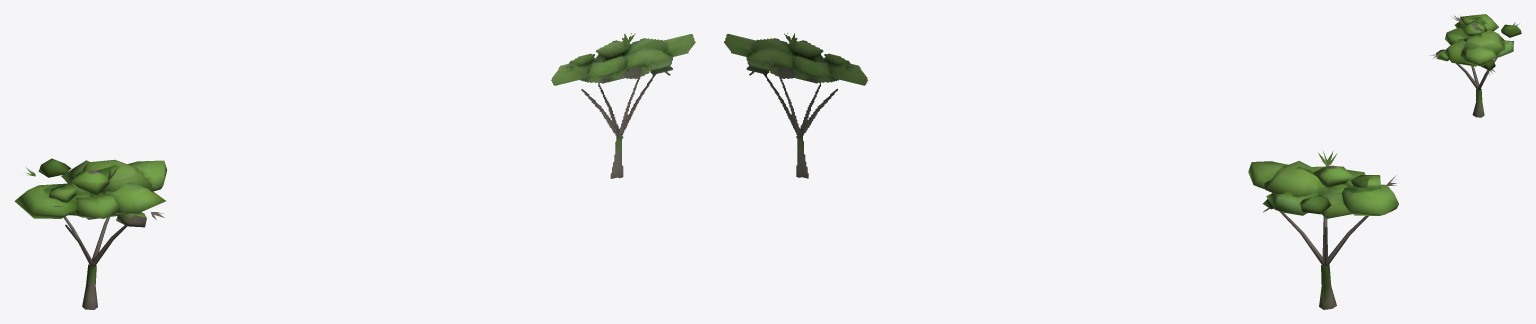
Rendered from tree_gulmohar_green.glb.
3 views of the same model, side by side, from view 1: azimuth 30°, elevation 25°; view 2: azimuth 150°, elevation 25°; view 3: azimuth 270°, elevation 25° (orthographic). The views are drawn at different scales.
Visible parts, largest first — view 1: tree_gulmohar_green_LOD0, tree_gulmohar_green_IMPOSTOR; view 2: tree_gulmohar_green_LOD0, tree_gulmohar_green_IMPOSTOR; view 3: tree_gulmohar_green_LOD0.
Boxes of the visible parts, x1,y1,x2,y2 form: tree_gulmohar_green_LOD0: (14, 158, 166, 309); tree_gulmohar_green_IMPOSTOR: (551, 33, 695, 178); tree_gulmohar_green_LOD0: (1248, 151, 1398, 309); tree_gulmohar_green_IMPOSTOR: (724, 33, 868, 178); tree_gulmohar_green_LOD0: (1429, 14, 1521, 117).
Size of what is drawn, in the model's own units: 146 by 30.29 by 26.73.
Materials: 2 (2 with a texture image).
